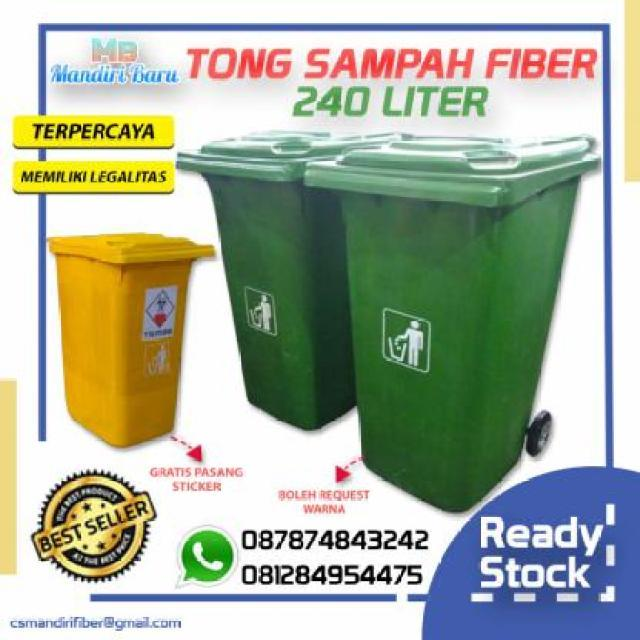garbage container: (303, 130, 605, 518), (173, 115, 355, 435), (44, 229, 217, 457)
